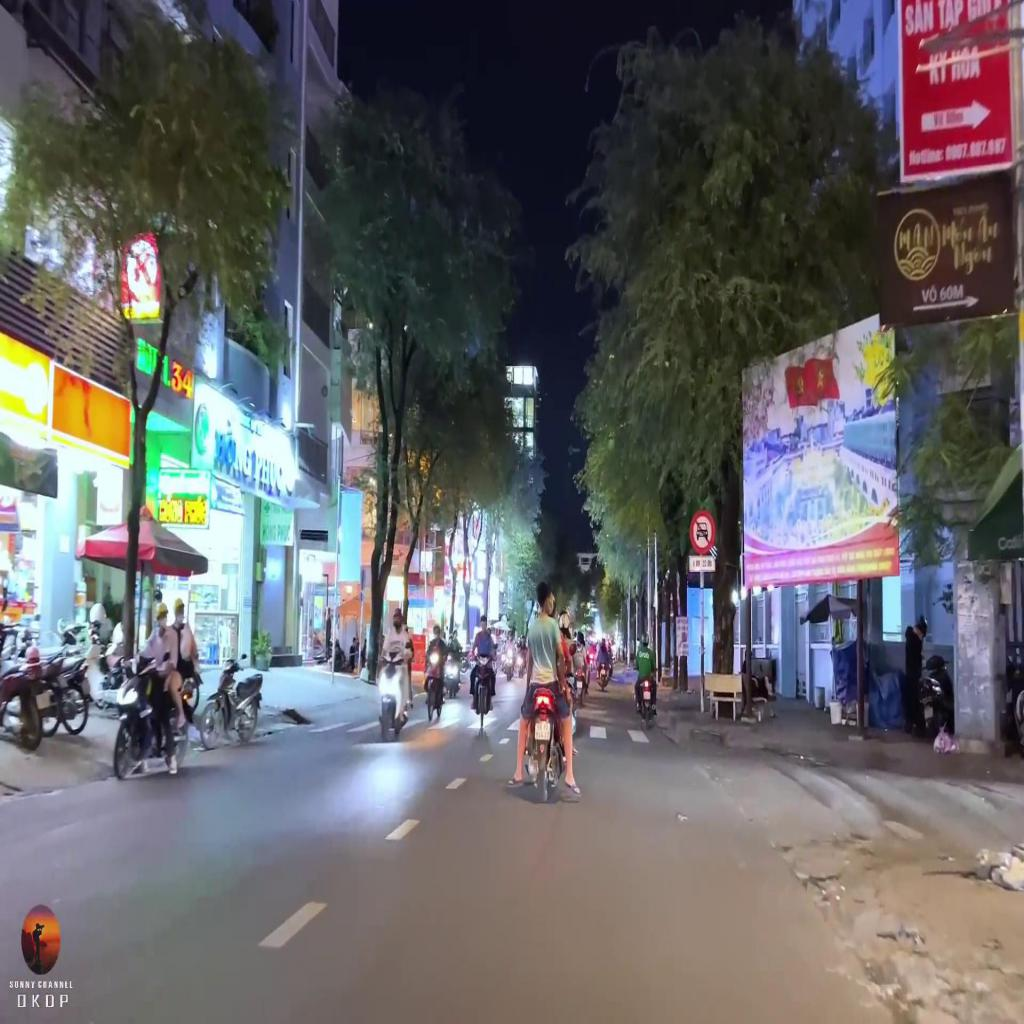cam_o_to: (689, 510, 715, 557)
khac: (688, 556, 715, 570)
